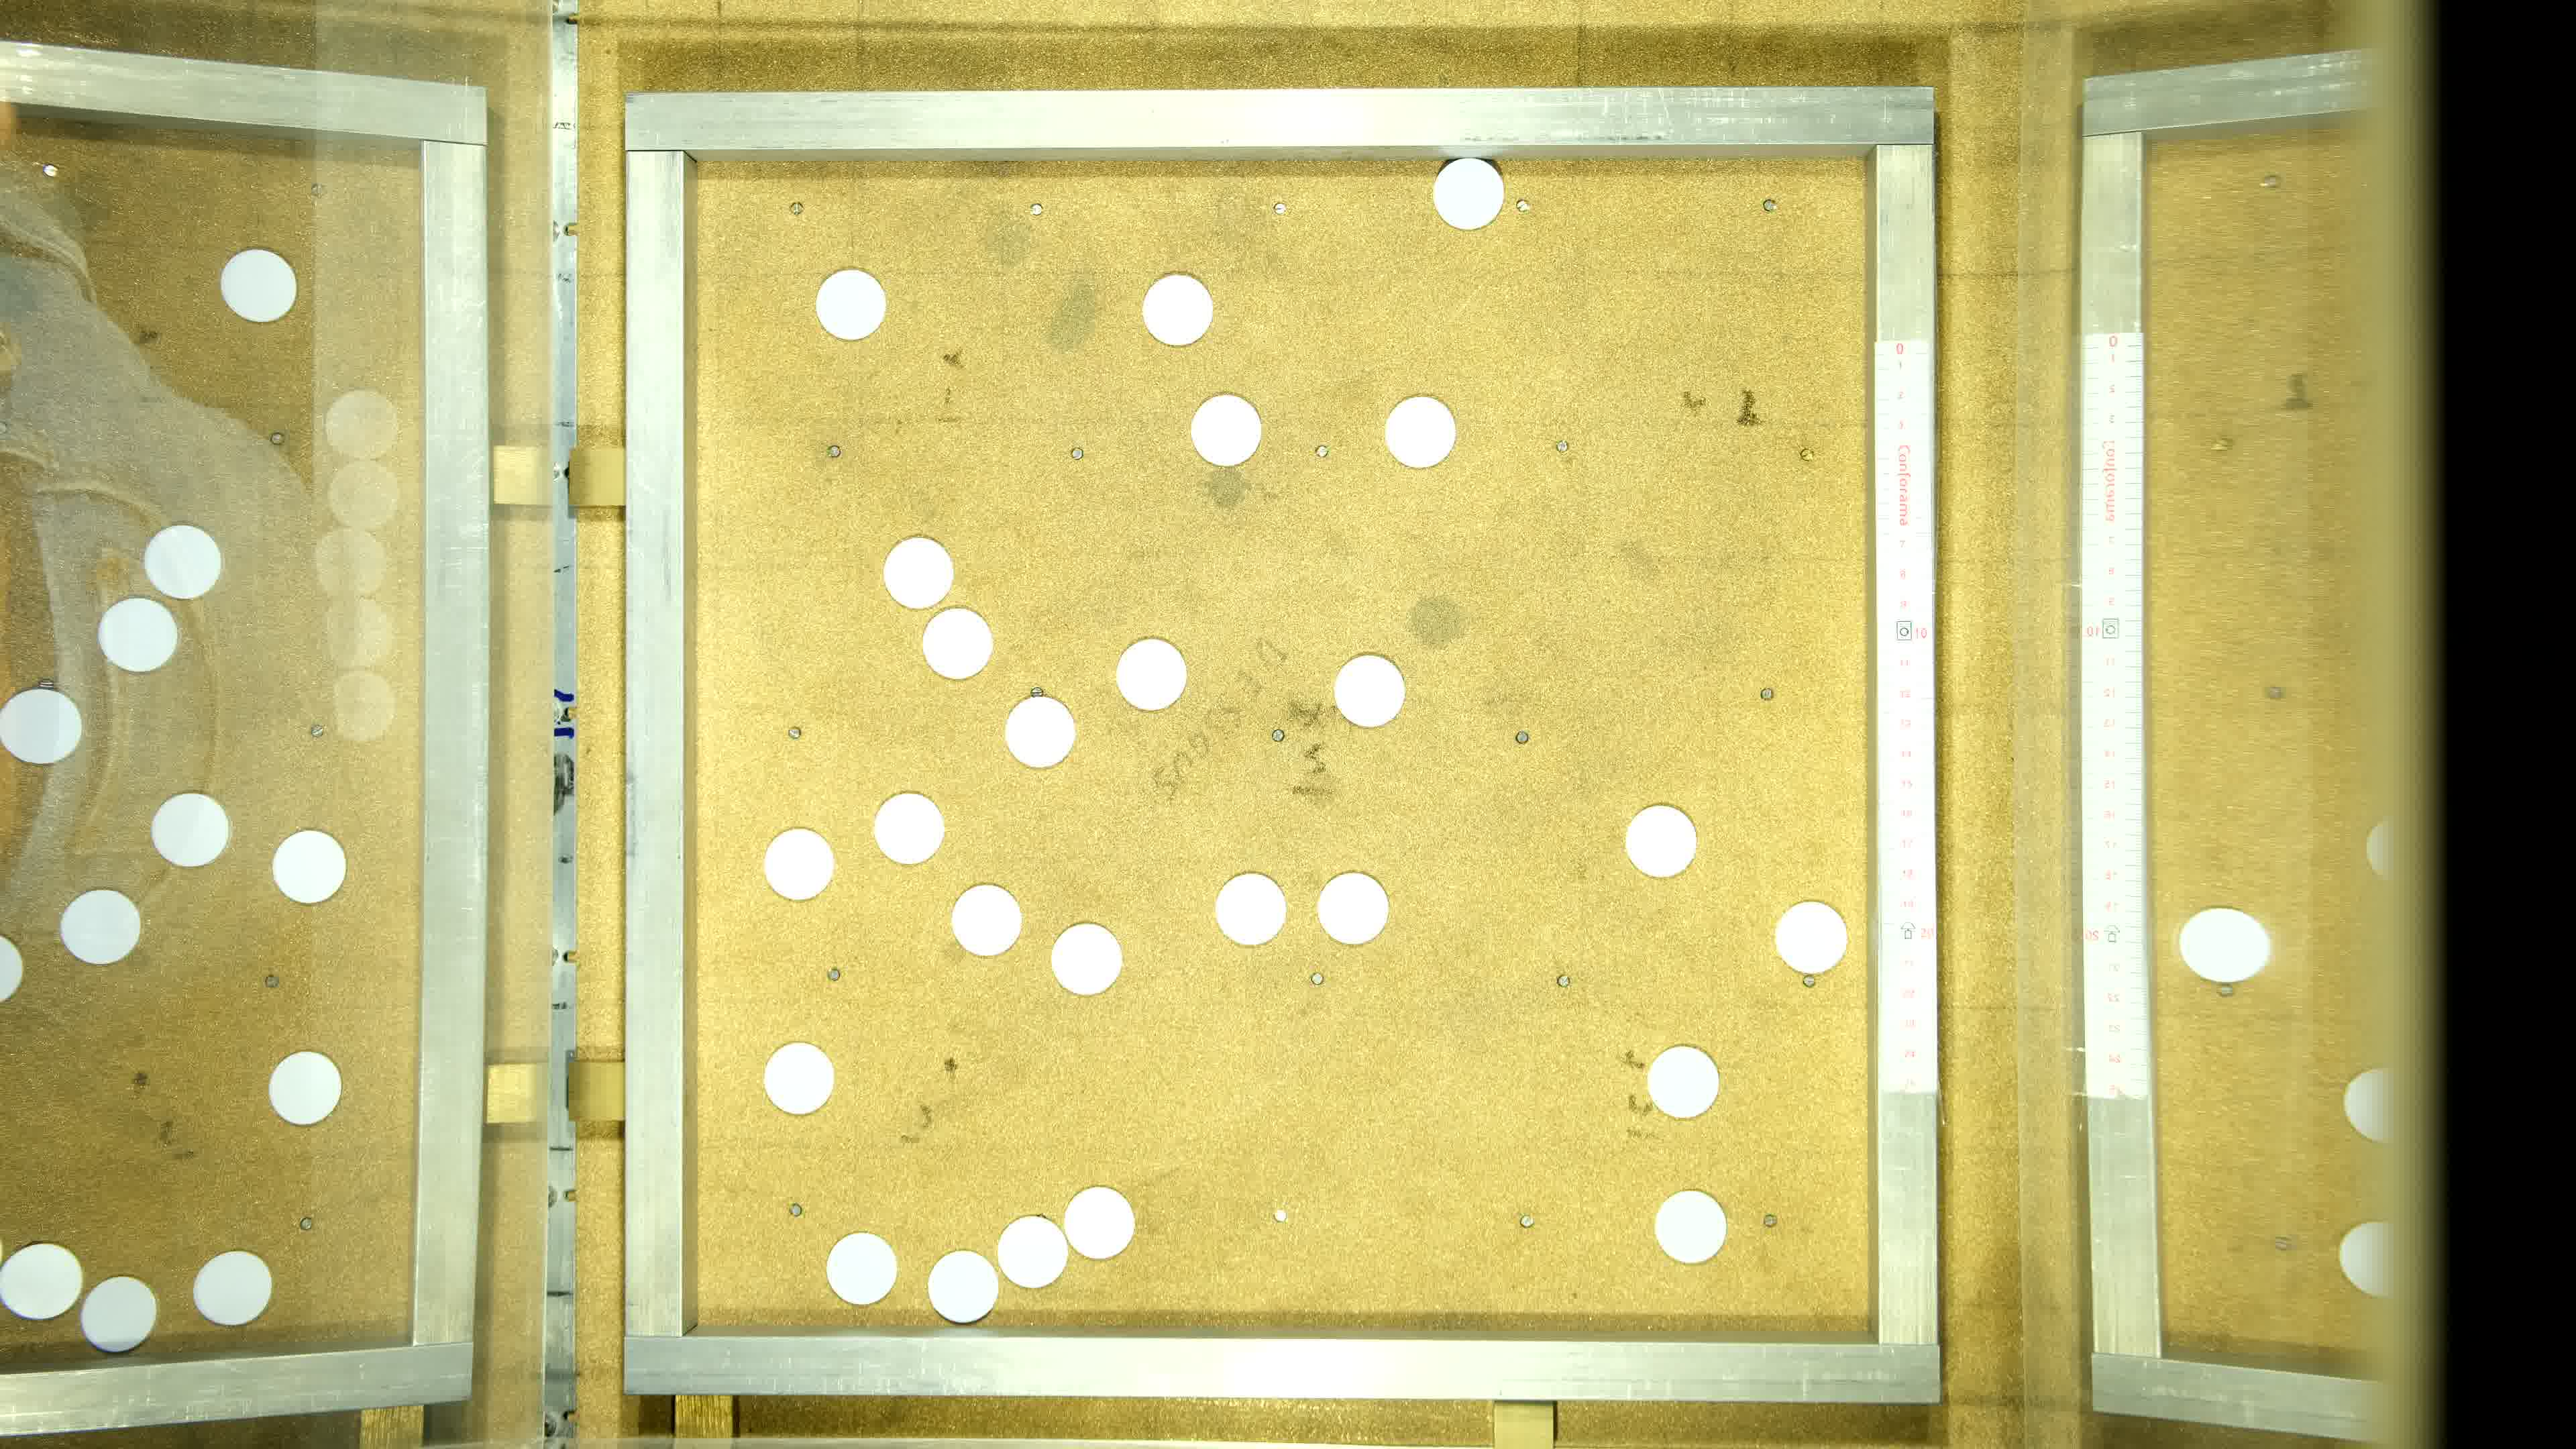pallet: (1431, 156, 1506, 228), (950, 885, 1024, 957), (881, 536, 955, 609), (816, 269, 890, 341), (1065, 1185, 1138, 1258), (761, 1044, 835, 1115), (1049, 924, 1123, 994), (761, 828, 835, 899), (1318, 872, 1392, 943), (1651, 1187, 1725, 1258), (1645, 1047, 1720, 1118), (1771, 902, 1845, 973), (1621, 801, 1695, 872), (1338, 656, 1412, 727), (922, 612, 996, 683), (1189, 395, 1263, 465), (925, 1251, 1000, 1322), (996, 1217, 1070, 1288), (824, 1233, 897, 1304), (870, 794, 943, 865), (1001, 692, 1074, 763), (1219, 874, 1292, 945), (1116, 637, 1189, 708), (1385, 395, 1458, 465), (1141, 276, 1214, 347)
